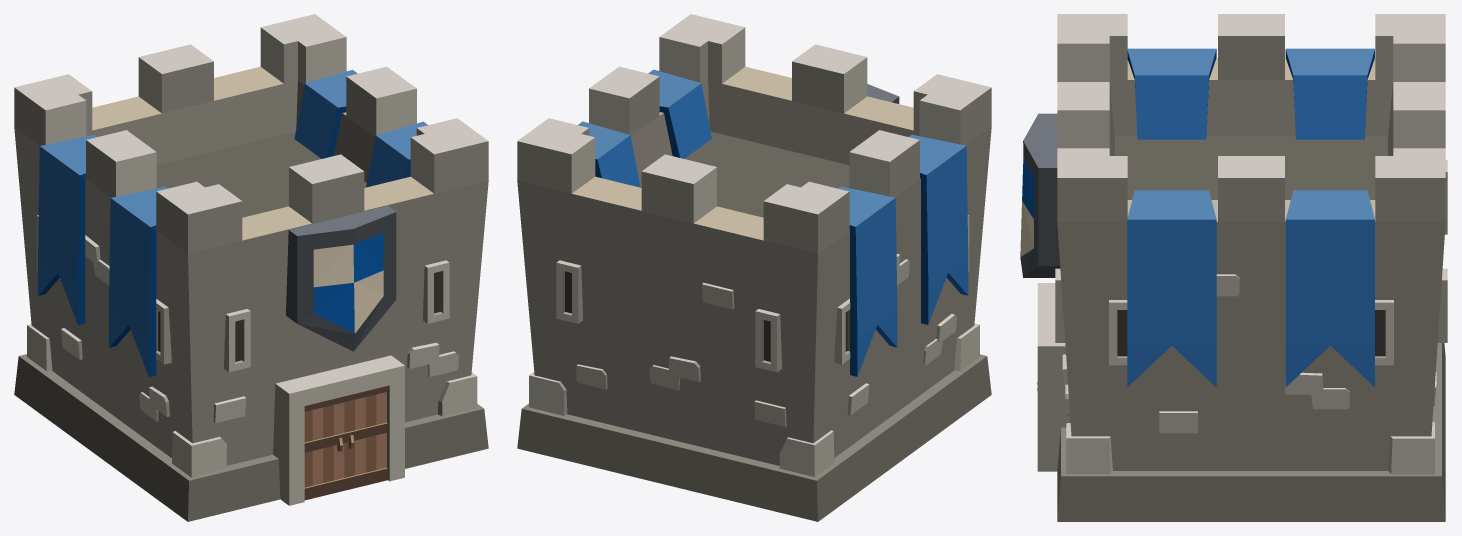
Rendered from TB_Barracks_Lvl2.FBX.
The picture shows the model from 3 angles, left to right: view 1: azimuth 30°, elevation 25°; view 2: azimuth 150°, elevation 25°; view 3: azimuth 270°, elevation 25°; orthographic projection. The views are drawn at different scales.
Visible parts, largest first — view 1: TB_Barracks_Lvl2, TB_Barracks_Lvl2_DoorB, TB_Barracks_Lvl2_DoorA; view 2: TB_Barracks_Lvl2; view 3: TB_Barracks_Lvl2.
Part boxes in pixels (left/top/right/bottom): TB_Barracks_Lvl2: left=14, top=14, right=488, bottom=521; TB_Barracks_Lvl2_DoorB: left=344, top=386, right=387, bottom=490; TB_Barracks_Lvl2_DoorA: left=304, top=396, right=345, bottom=500; TB_Barracks_Lvl2: left=517, top=14, right=991, bottom=521; TB_Barracks_Lvl2: left=1020, top=14, right=1447, bottom=521.
Size of the model in its own units: 6.73 by 6.25 by 7.04.
